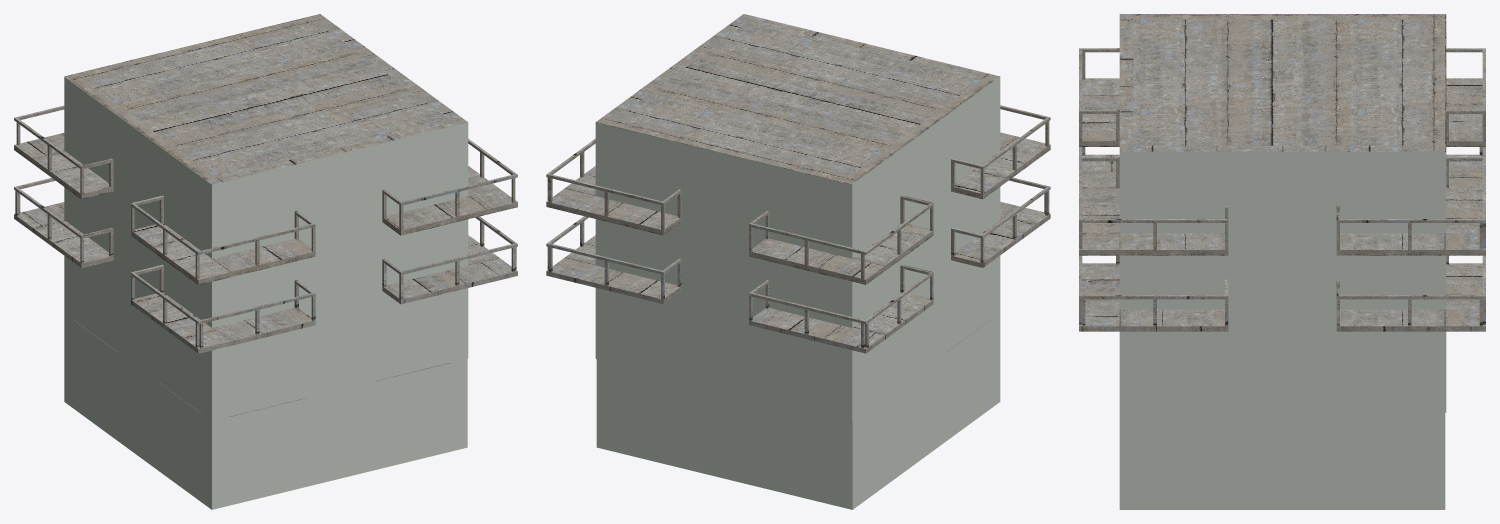
Rendered from BagBuilding3_70.fbx.
The picture shows the model from 3 angles, left to right: view 1: azimuth 30°, elevation 25°; view 2: azimuth 150°, elevation 25°; view 3: azimuth 270°, elevation 25°; orthographic projection. The views are drawn at different scales.
Parts seen in each view (by area): view 1: main70, Box70, balconies70, roof70; view 2: Box70, main70, balconies70, roof70; view 3: Box70, balconies70, roof70, main70, roofA70.
Part boxes in pixels (x1,y1,x2,y2): main70: [64, 77, 467, 509]; Box70: [74, 97, 468, 416]; balconies70: [14, 14, 517, 353]; roof70: [81, 21, 450, 177]; Box70: [595, 98, 990, 421]; main70: [596, 77, 1000, 509]; balconies70: [546, 14, 1050, 353]; roof70: [614, 21, 982, 177]; Box70: [1120, 152, 1446, 412]; balconies70: [1079, 14, 1485, 331]; roof70: [1133, 19, 1431, 145]; main70: [1119, 152, 1445, 509]; roofA70: [1120, 14, 1446, 151].
Bounding box in the file's own units: 20.38 × 19.81 × 20.38.
